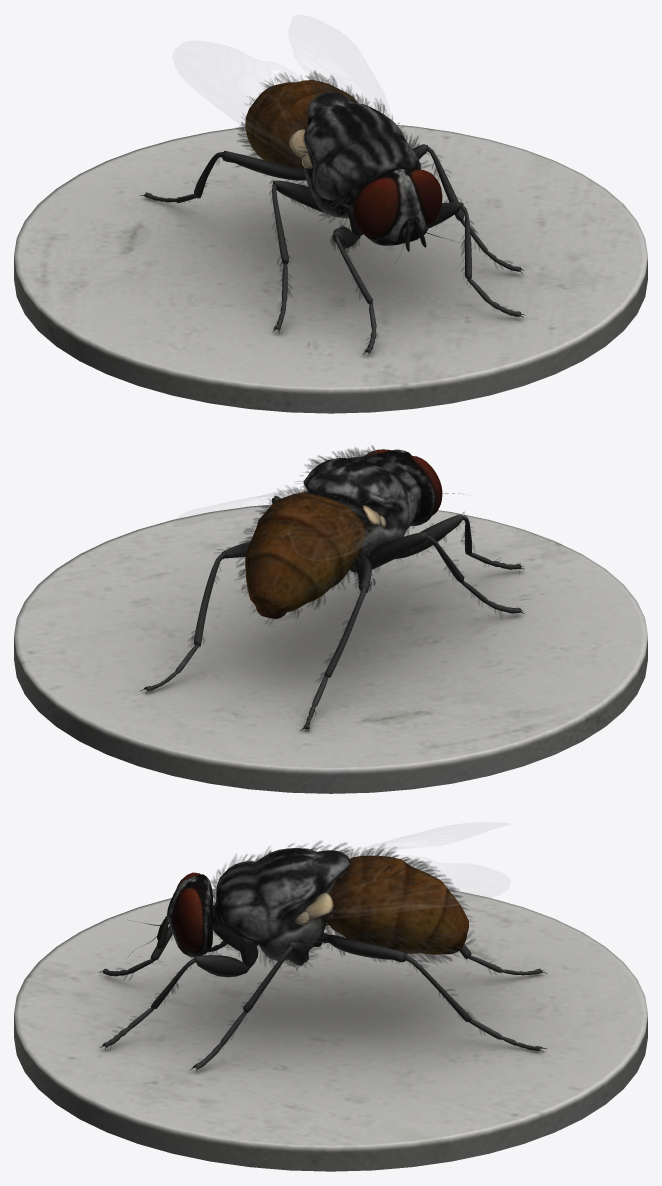
File: sketchfab-housefly-v2.glb
3 views of the same model, one above another, from view 1: azimuth 30°, elevation 25°; view 2: azimuth 150°, elevation 25°; view 3: azimuth 270°, elevation 25° (orthographic).
Parts seen in each view (by area): view 1: Cylinder001, Object008_MultiMat_0_0, Object008_MultiMat_0h_0, Object008_MultiMat_0d_0; view 2: Cylinder001, Object008_MultiMat_0_0, Object008_MultiMat_0h_0; view 3: Cylinder001, Object008_MultiMat_0_0, Object008_MultiMat_0h_0.
Boxes of the visible parts, bbox=[...] form: Cylinder001: bbox=[14, 125, 647, 413]; Object008_MultiMat_0_0: bbox=[140, 80, 524, 355]; Object008_MultiMat_0h_0: bbox=[145, 70, 515, 354]; Object008_MultiMat_0d_0: bbox=[173, 27, 382, 156]; Cylinder001: bbox=[14, 504, 647, 793]; Object008_MultiMat_0_0: bbox=[140, 449, 524, 731]; Object008_MultiMat_0h_0: bbox=[188, 445, 522, 730]; Cylinder001: bbox=[14, 889, 647, 1171]; Object008_MultiMat_0_0: bbox=[100, 848, 546, 1071]; Object008_MultiMat_0h_0: bbox=[98, 841, 496, 1060].
Size of the model in its own units: 1.2 by 0.4056 by 1.2.
Materials: 4 (4 with a texture image).
